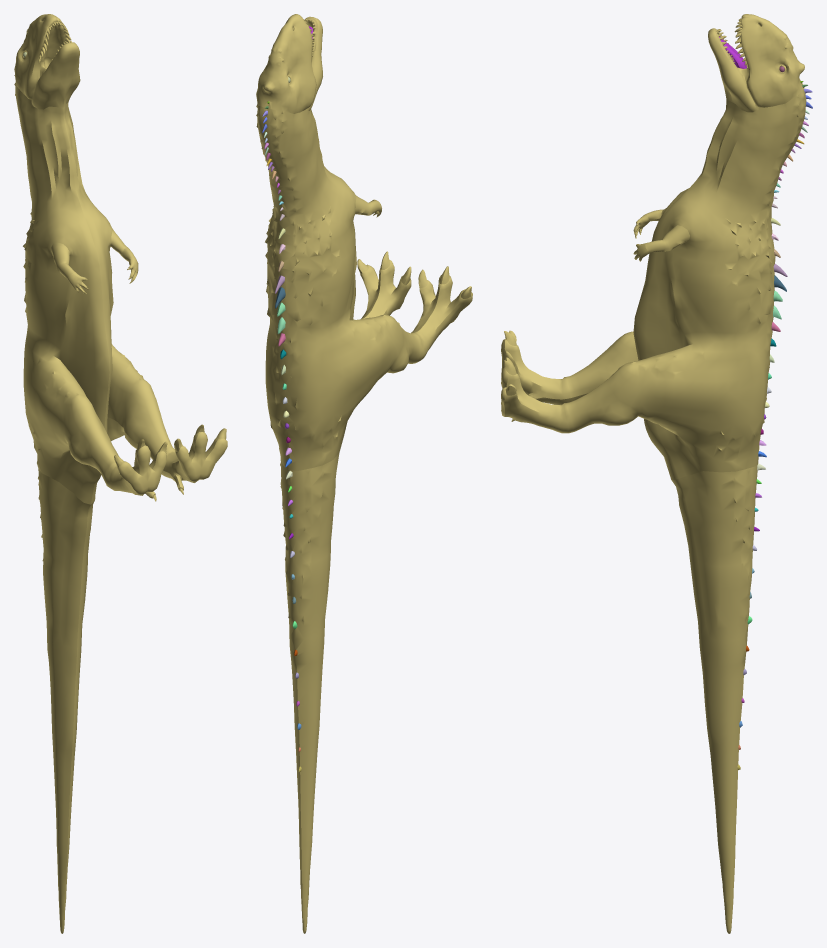
3 views of the same model, side by side, from view 1: azimuth 30°, elevation 25°; view 2: azimuth 150°, elevation 25°; view 3: azimuth 270°, elevation 25° (orthographic).
Parts seen in each view (by area): view 1: split_parent_0; view 2: split_parent_0; view 3: split_parent_0.
Part boxes in pixels (x1,y1,x2,y2): split_parent_0: [14, 14, 227, 933]; split_parent_0: [256, 14, 472, 933]; split_parent_0: [501, 14, 806, 933].
Size of the model in its own units: 0.1283 by 1 by 0.3076.
